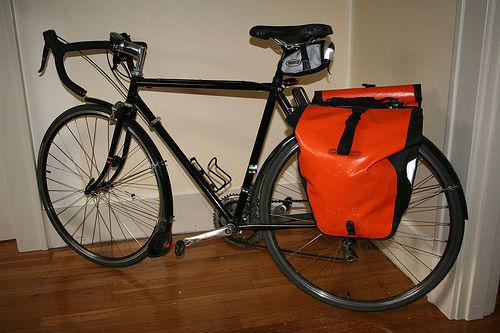car: (37, 24, 470, 315)
